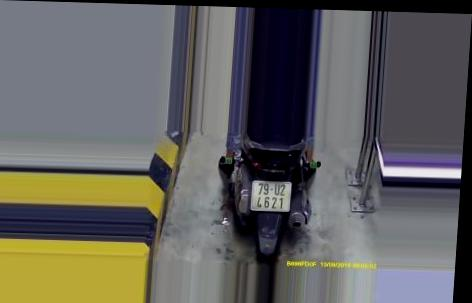License_Plate: (245, 178, 296, 215)
